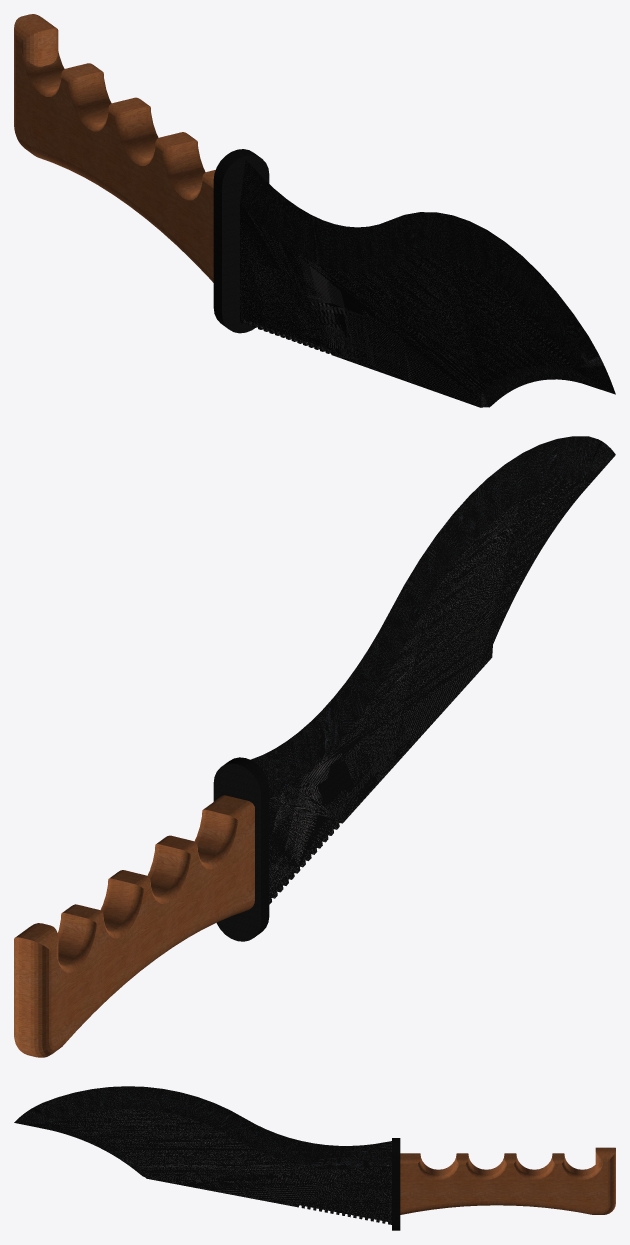
Rendered from model_scale.obj.
3 views of the same model, one above another, from view 1: azimuth 30°, elevation 25°; view 2: azimuth 150°, elevation 25°; view 3: azimuth 270°, elevation 25° (orthographic). The views are drawn at different scales.
Visible parts, largest first — view 1: mesh1_mesh1-geometry, mesh22_mesh22-geometry; view 2: mesh1_mesh1-geometry, mesh22_mesh22-geometry; view 3: mesh1_mesh1-geometry, mesh22_mesh22-geometry.
Part boxes in pixels (bbox=[...]): mesh1_mesh1-geometry: bbox=[213, 149, 615, 407]; mesh22_mesh22-geometry: bbox=[14, 14, 215, 282]; mesh1_mesh1-geometry: bbox=[213, 436, 615, 941]; mesh22_mesh22-geometry: bbox=[14, 795, 254, 1057]; mesh1_mesh1-geometry: bbox=[14, 1086, 400, 1230]; mesh22_mesh22-geometry: bbox=[400, 1147, 615, 1214].
Bounding box in the file's own units: 0.0104 × 0.059 × 0.2248.
